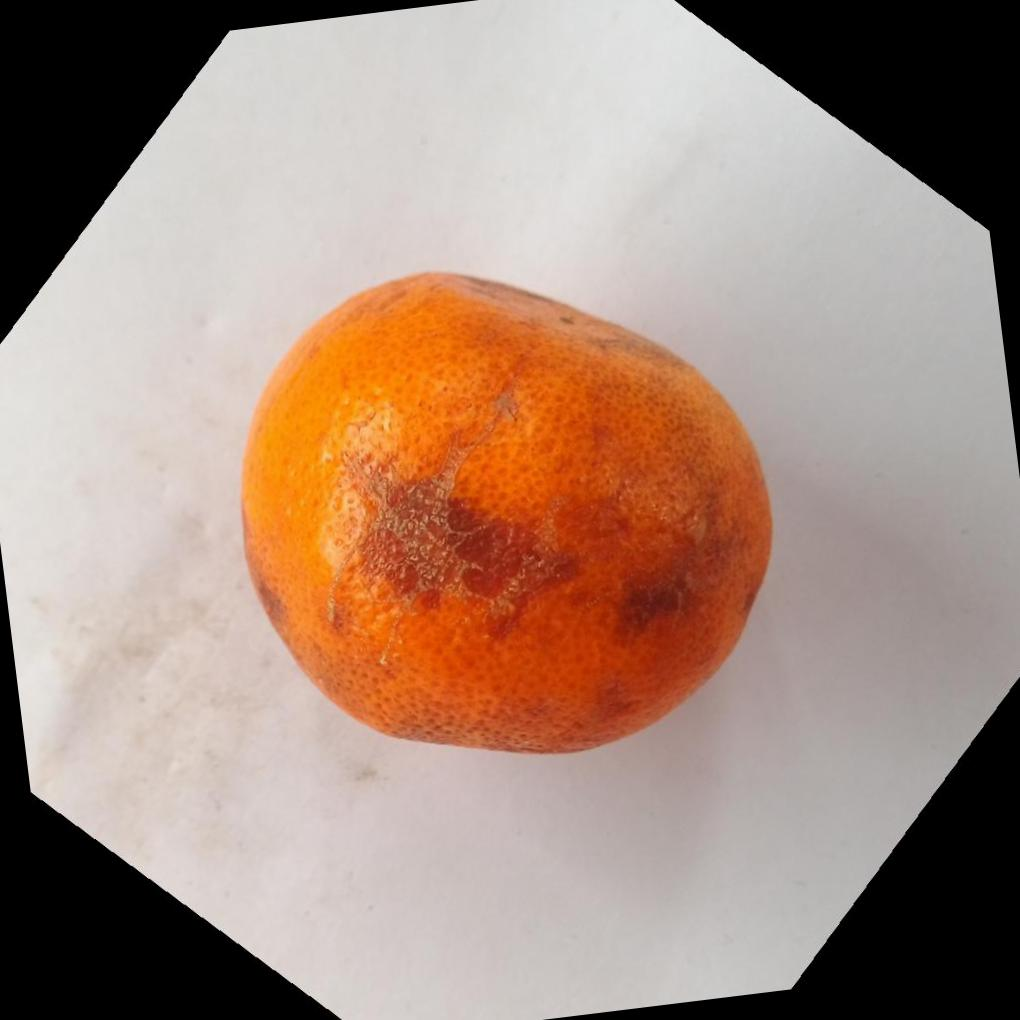FreshOrange: (238, 272, 776, 761)
